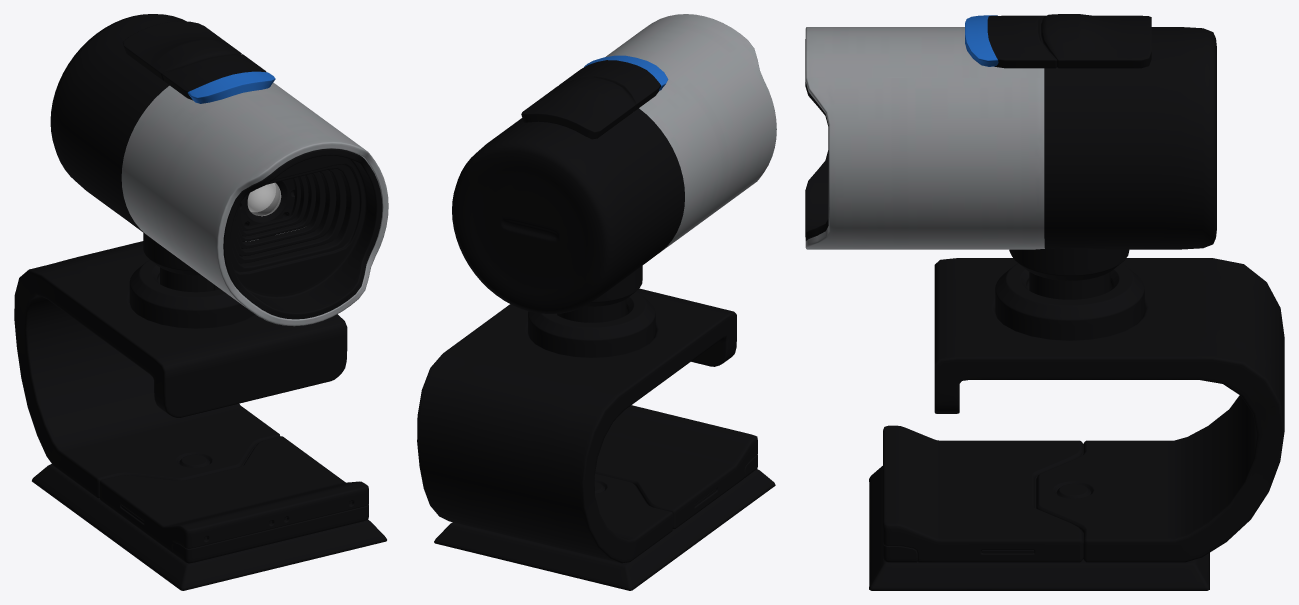
File: dev-webcam.glb
3 renders of one model, left to right at view 1: azimuth 30°, elevation 25°; view 2: azimuth 150°, elevation 25°; view 3: azimuth 270°, elevation 25°, orthographic. The views are drawn at different scales.
Visible parts, largest first — view 1: body; view 2: body; view 3: body.
Boxes of the visible parts, bbox=[...] form: body: bbox=[14, 14, 388, 590]; body: bbox=[417, 14, 776, 590]; body: bbox=[805, 14, 1284, 590].
Size of the model in its own units: 0.0474 by 0.1 by 0.0846.
6 materials, 1 textured.
